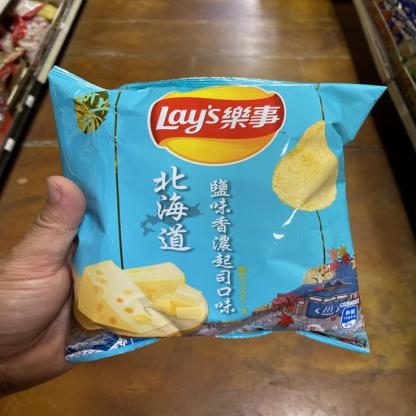potatochip: (41, 61, 396, 366)
